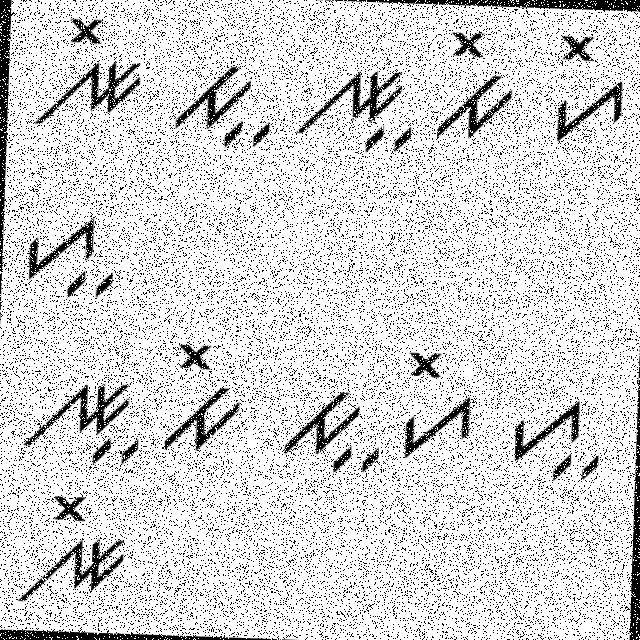hah: (504, 381, 606, 486), (22, 198, 124, 302)
ho: (533, 28, 633, 156), (394, 338, 480, 463)
mbah: (160, 48, 284, 154), (277, 372, 386, 480)
mbo: (158, 334, 248, 460), (429, 24, 521, 146)
ndah: (21, 370, 148, 472), (294, 58, 419, 156)
ndo: (13, 486, 134, 614), (27, 8, 146, 137)
